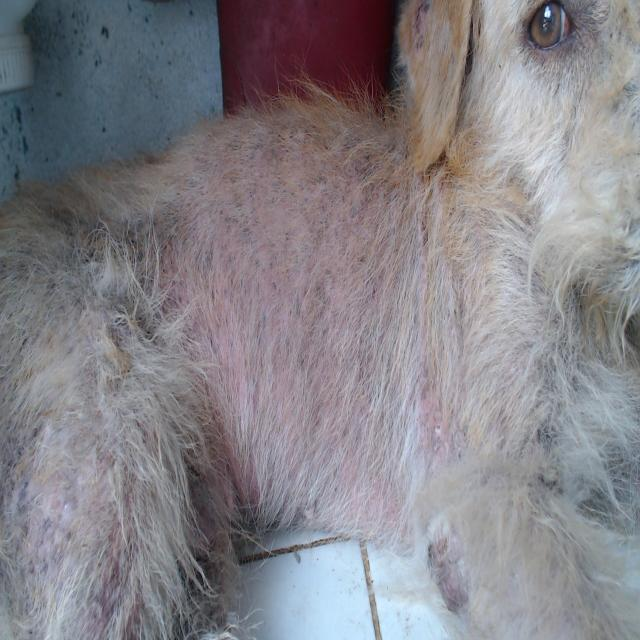demodicosis: (208, 172, 403, 435), (11, 408, 140, 621), (431, 541, 463, 594), (410, 0, 429, 67)
